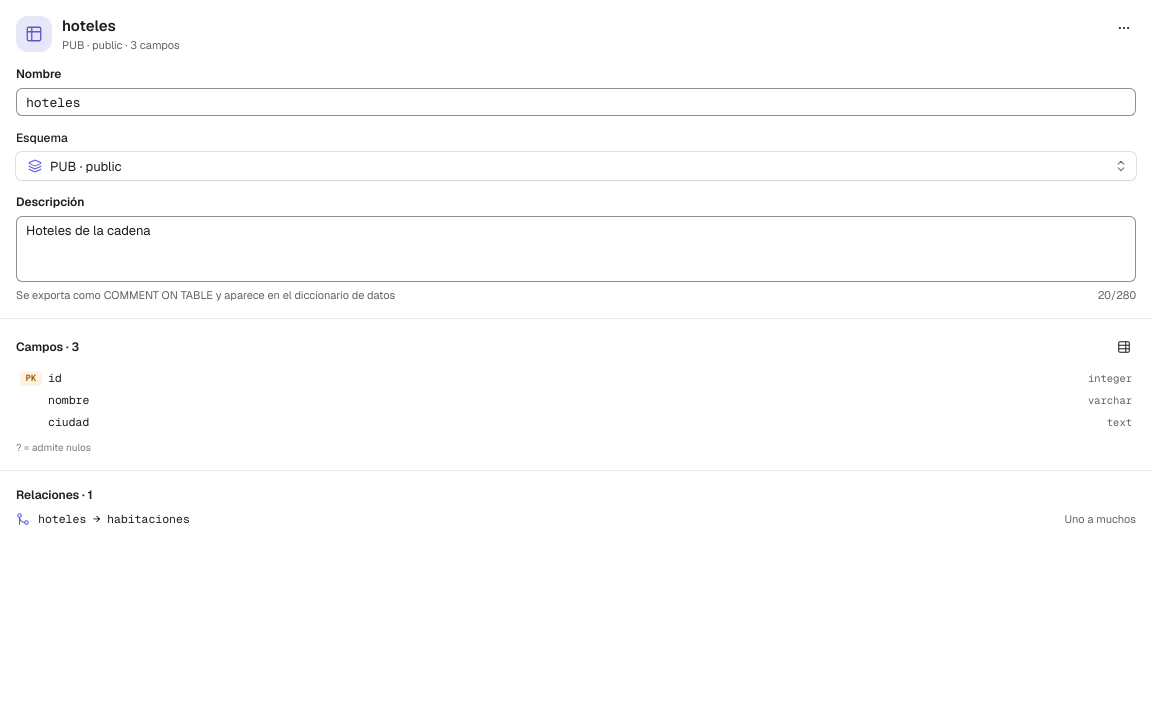
Test: inspector de la tabla seleccionada › tiene el menú de acciones de la tabla (FR-036)
The image size is (1152, 720).
Click the button named "Acciones de hoteles".
click(1124, 28)  # box [1112,16,1136,40]
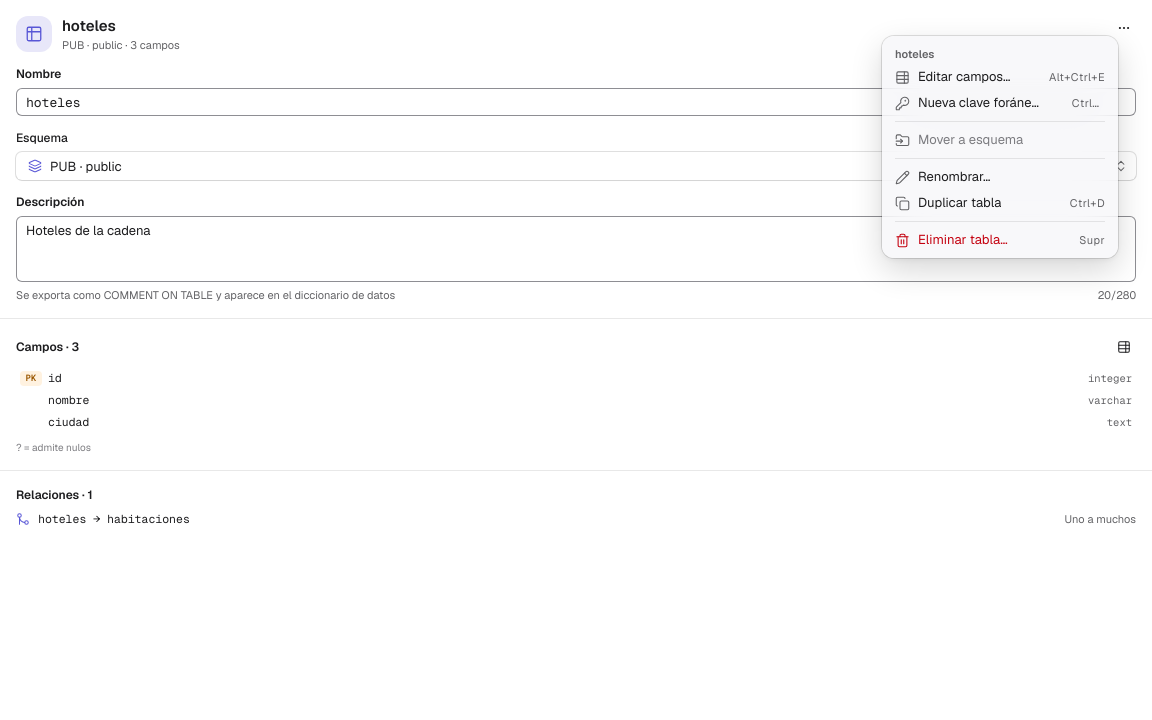
Now the menu item "Editar campos… Alt+Ctrl+E" is shown, box [887,64,1113,90]
Now the menu item "Eliminar tabla… Supr" is shown, box [887,227,1113,253]
